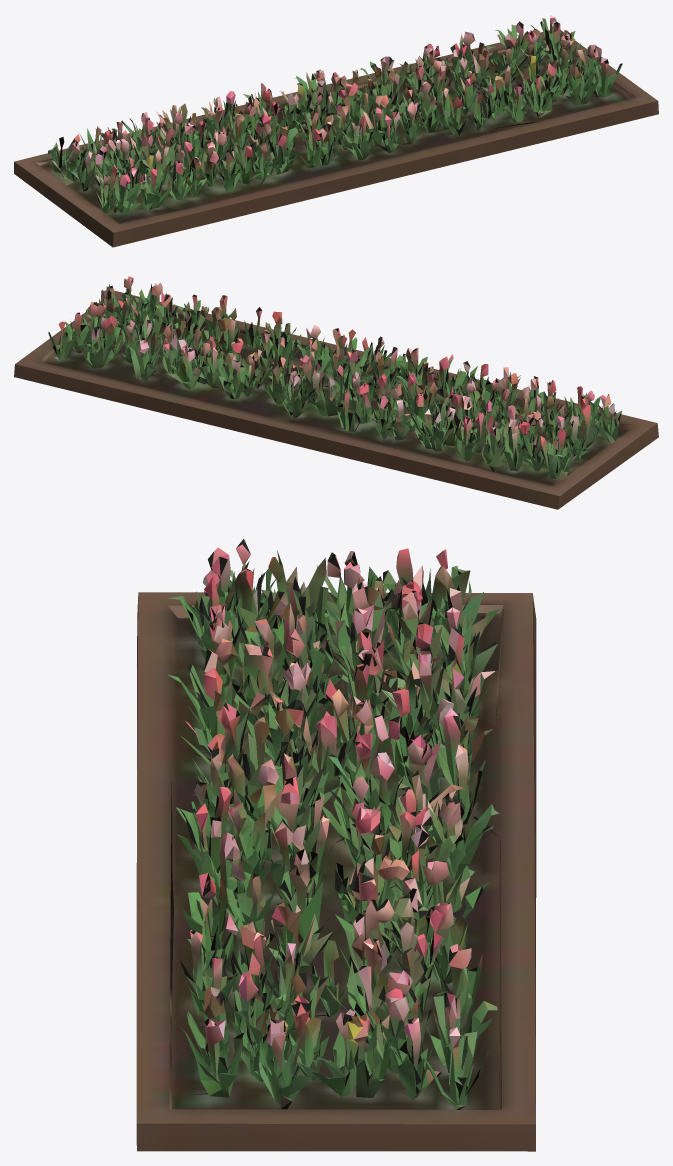
The model's file is TulipBed.glb.
3 renders of one model, top to bottom at view 1: azimuth 30°, elevation 25°; view 2: azimuth 150°, elevation 25°; view 3: azimuth 270°, elevation 25°, orthographic. The views are drawn at different scales.
Visible parts, largest first — view 1: TulipBed; view 2: TulipBed; view 3: TulipBed.
Boxes of the visible parts, bbox=[...] form: TulipBed: bbox=[14, 14, 658, 247]; TulipBed: bbox=[14, 276, 658, 509]; TulipBed: bbox=[136, 539, 536, 1151].
Bounding box in the file's own units: 2.16 × 0.1946 × 0.6857.
Materials: 1 (1 with a texture image).
